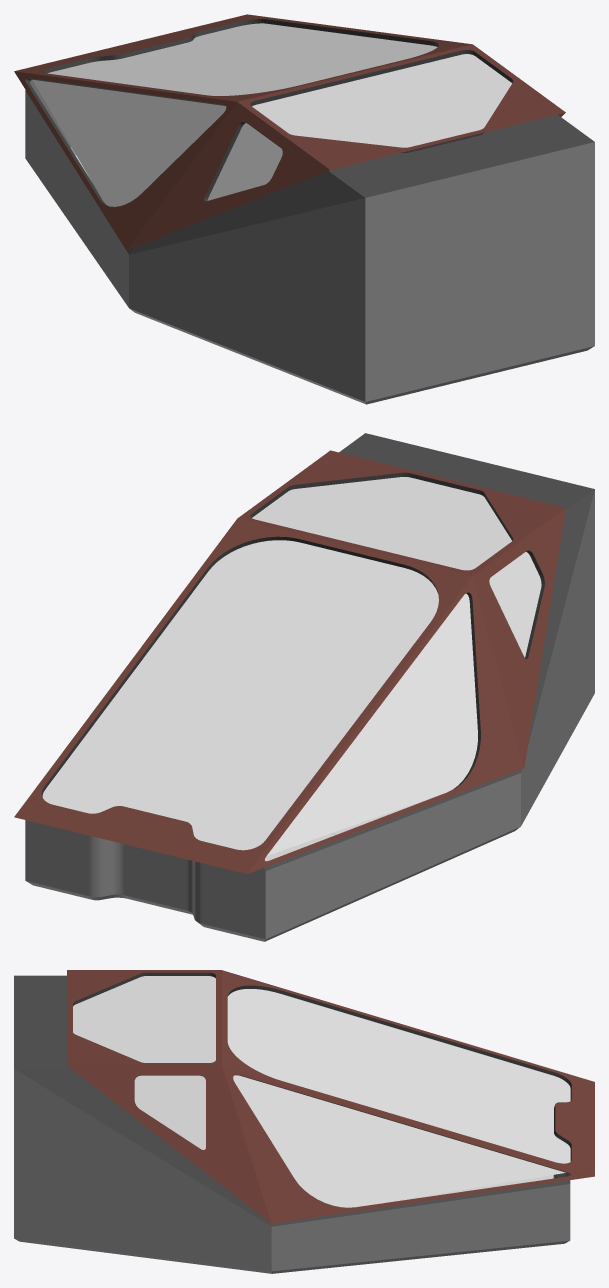
Rendered from CockpitInterior.fbx.
The picture shows the model from 3 angles, top to bottom: view 1: azimuth 30°, elevation 25°; view 2: azimuth 150°, elevation 25°; view 3: azimuth 270°, elevation 25°; orthographic projection. The views are drawn at different scales.
Parts seen in each view (by area): view 1: CockpitInterior; view 2: CockpitInterior; view 3: CockpitInterior.
Boxes of the visible parts, bbox=[...] form: CockpitInterior: bbox=[14, 14, 594, 404]; CockpitInterior: bbox=[14, 433, 594, 941]; CockpitInterior: bbox=[14, 970, 594, 1273].
Bounding box in the file's own units: 3.9 × 2.03 × 5.93.
